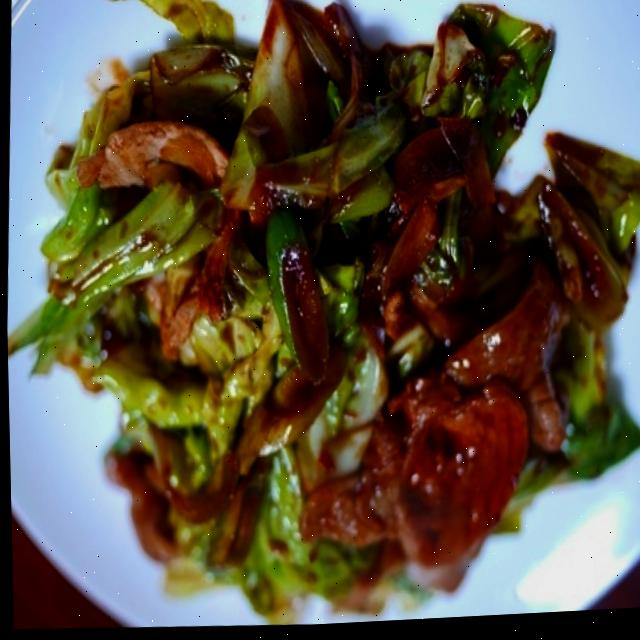猪肉菜式: (16, 0, 640, 633)
